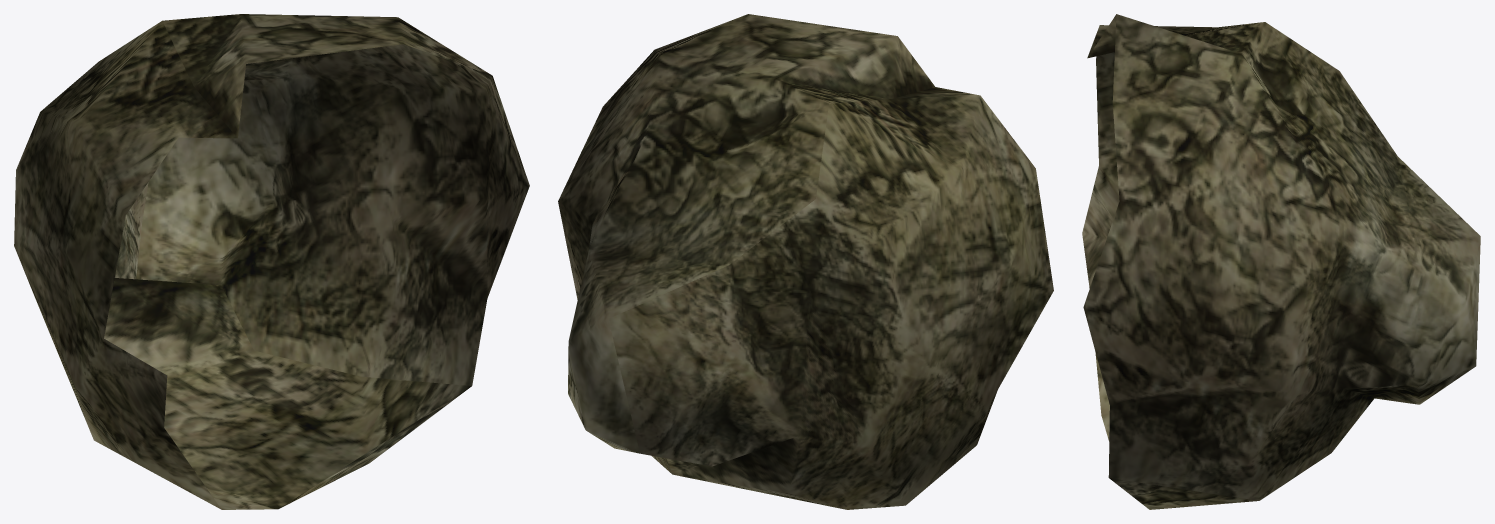
The model's file is MEP_Rock_01_b.fbx.
The picture shows the model from 3 angles, left to right: view 1: azimuth 30°, elevation 25°; view 2: azimuth 150°, elevation 25°; view 3: azimuth 270°, elevation 25°; orthographic projection. The views are drawn at different scales.
Parts seen in each view (by area): view 1: MEP_Rock_01_b; view 2: MEP_Rock_01_b; view 3: MEP_Rock_01_b.
Part boxes in pixels (x1,y1,x2,y2): MEP_Rock_01_b: (14,14,529,509); MEP_Rock_01_b: (558,14,1053,509); MEP_Rock_01_b: (1082,14,1480,509).
Bounding box in the file's own units: 18.31 × 18.35 × 15.19.
